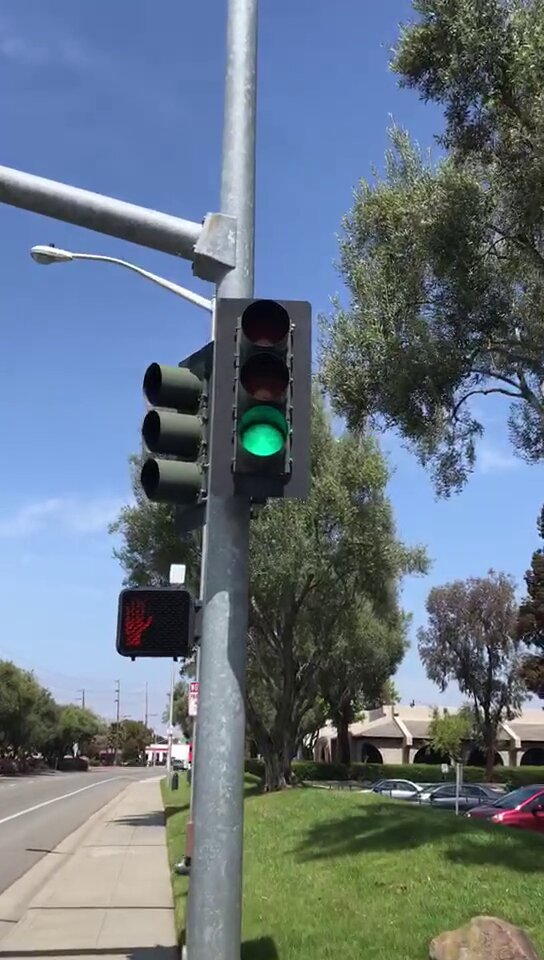green_light: (215, 300, 309, 492)
